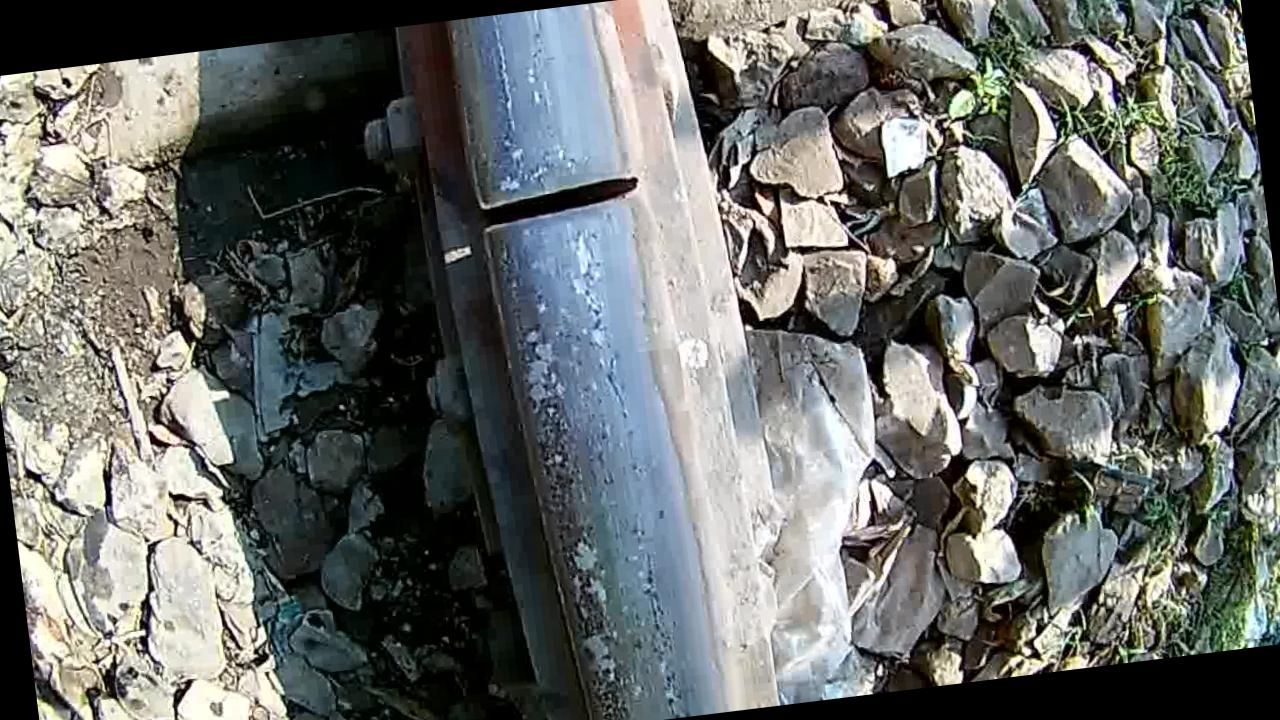clip_missing: (485, 245, 716, 720)
